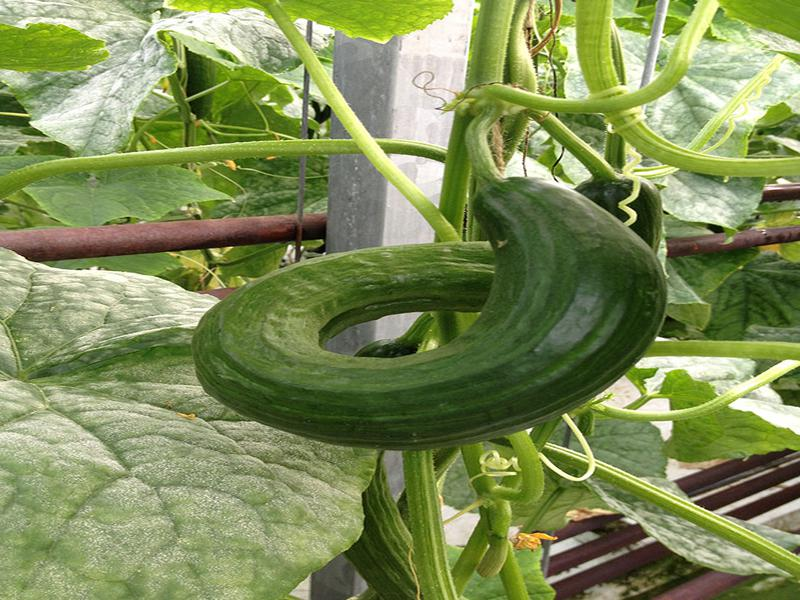Thrips: (447, 489, 530, 597), (443, 94, 518, 186)
